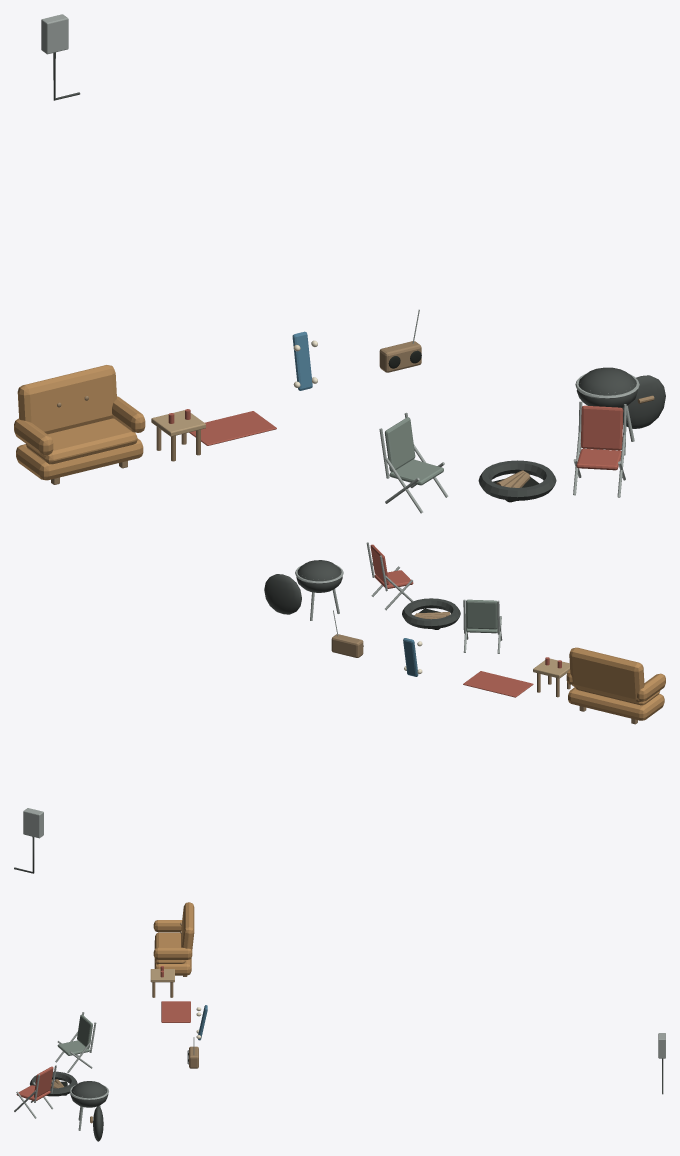
Rendered from SM_SlackerFriendsHouse_Props.fbx.
The picture shows the model from 3 angles, top to bottom: view 1: azimuth 30°, elevation 25°; view 2: azimuth 150°, elevation 25°; view 3: azimuth 270°, elevation 25°; orthographic projection. The views are drawn at different scales.
Visible parts, largest first — view 1: EXPORT_Porch_Sofa_Back, EXPORT_Porch_Sofa_Cushion, EXPORT_Porch_Sofa_Base, EXPORT_Firepit_Rim, EXPORT_BBQ_Kettle, EXPORT_Red_FoldingChair_Back, EXPORT_Porch_Rug, EXPORT_BBQ_Lid, EXPORT_Green_FoldingChair_Back, EXPORT_Rear_Utility_Box, EXPORT_Porch_Sofa_Arm, EXPORT_Porch_Radio (+5 smaller); view 2: EXPORT_Porch_Sofa_Back, EXPORT_Porch_Sofa_Base, EXPORT_BBQ_Lid, EXPORT_Firepit_Rim, EXPORT_BBQ_Kettle, EXPORT_Porch_Rug, EXPORT_Green_FoldingChair_Back, EXPORT_Porch_Radio, EXPORT_Rear_Utility_Box; view 3: EXPORT_BBQ_Kettle, EXPORT_Porch_Rug, EXPORT_Porch_Sofa_Back, EXPORT_Porch_Sofa_Cushion, EXPORT_Porch_Sofa_Arm.001, EXPORT_Firepit_Rim, EXPORT_Green_FoldingChair_Back, EXPORT_Red_FoldingChair_Back.
Part boxes in pixels (bbox=[...]): EXPORT_Porch_Sofa_Back: bbox=[17, 365, 116, 434]; EXPORT_Porch_Sofa_Cushion: bbox=[26, 418, 137, 464]; EXPORT_Porch_Sofa_Base: bbox=[16, 438, 143, 480]; EXPORT_Firepit_Rim: bbox=[478, 460, 556, 500]; EXPORT_BBQ_Kettle: bbox=[576, 367, 637, 408]; EXPORT_Red_FoldingChair_Back: bbox=[581, 405, 623, 450]; EXPORT_Porch_Rug: bbox=[189, 411, 276, 445]; EXPORT_BBQ_Lid: bbox=[622, 375, 665, 428]; EXPORT_Green_FoldingChair_Back: bbox=[385, 417, 415, 471]; EXPORT_Rear_Utility_Box: bbox=[41, 14, 68, 54]; EXPORT_Porch_Sofa_Arm: bbox=[14, 418, 53, 455]; EXPORT_Porch_Radio: bbox=[379, 341, 421, 372]; EXPORT_Porch_Sofa_Back: bbox=[569, 647, 644, 702]; EXPORT_Porch_Sofa_Base: bbox=[568, 687, 664, 720]; EXPORT_BBQ_Lid: bbox=[264, 574, 301, 614]; EXPORT_Firepit_Rim: bbox=[402, 598, 460, 628]; EXPORT_BBQ_Kettle: bbox=[296, 560, 342, 592]; EXPORT_Porch_Rug: bbox=[463, 671, 533, 697]; EXPORT_Green_FoldingChair_Back: bbox=[466, 599, 497, 629]; EXPORT_Porch_Radio: bbox=[331, 634, 363, 657]; EXPORT_Rear_Utility_Box: bbox=[23, 808, 43, 838]; EXPORT_BBQ_Kettle: bbox=[70, 1081, 108, 1107]; EXPORT_Porch_Rug: bbox=[161, 1001, 190, 1022]; EXPORT_Porch_Sofa_Back: bbox=[181, 902, 194, 950]; EXPORT_Porch_Sofa_Cushion: bbox=[155, 932, 185, 964]; EXPORT_Porch_Sofa_Arm.001: bbox=[153, 947, 192, 959]; EXPORT_Firepit_Rim: bbox=[30, 1071, 77, 1096]; EXPORT_Green_FoldingChair_Back: bbox=[77, 1014, 92, 1048]; EXPORT_Red_FoldingChair_Back: bbox=[34, 1066, 53, 1097].
Bounding box in the file's own units: 925 × 1465 × 185.
